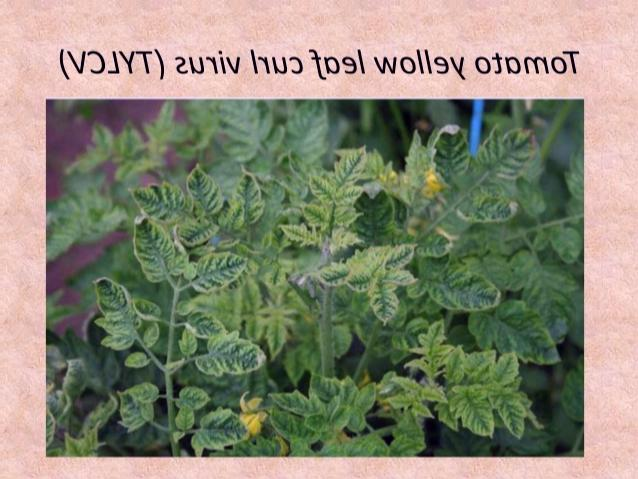Tomato leaf yellow virus: (457, 290, 565, 365), (428, 253, 503, 314), (472, 120, 537, 174), (87, 275, 146, 334), (205, 325, 269, 377), (176, 153, 224, 221), (129, 217, 175, 287), (230, 167, 268, 247), (422, 119, 466, 187), (120, 176, 189, 217), (327, 136, 380, 189), (188, 249, 247, 296), (186, 406, 254, 445), (453, 191, 516, 230), (366, 271, 402, 331), (258, 388, 323, 418), (487, 387, 529, 433), (481, 346, 520, 393), (456, 385, 491, 437), (305, 255, 352, 292), (293, 168, 334, 207), (374, 239, 419, 274), (351, 378, 378, 419), (439, 345, 464, 382), (335, 176, 361, 205), (386, 371, 420, 391)
